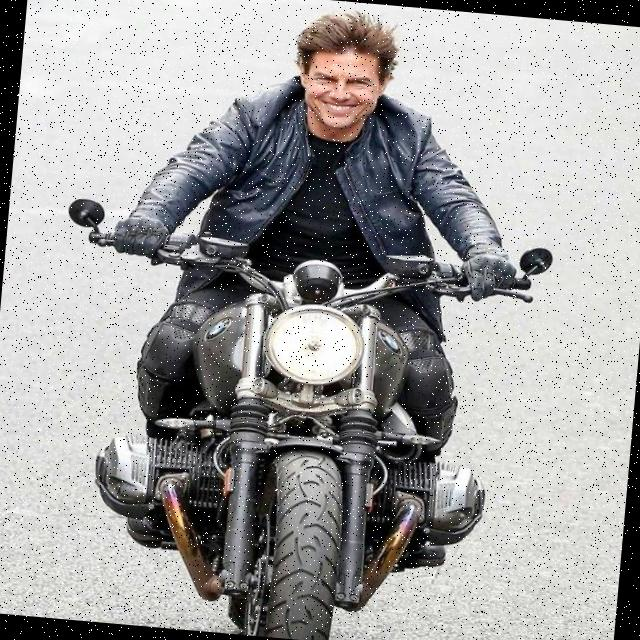No helmet: (290, 10, 396, 132)
